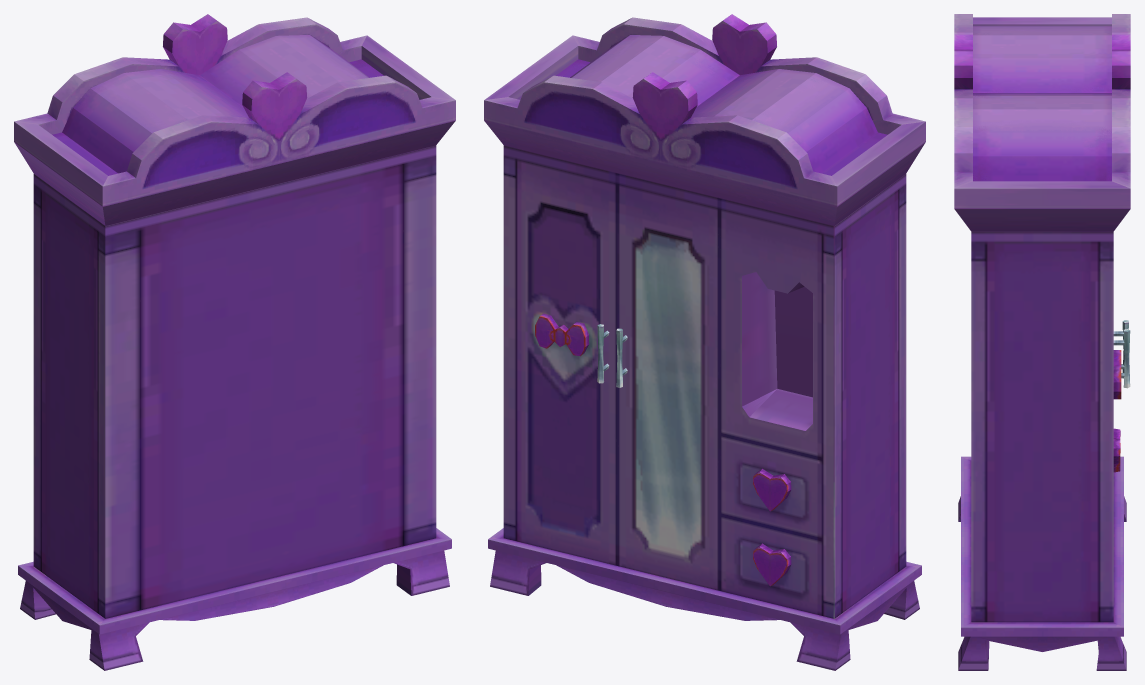
File: furni_0200023_01.FBX
3 renders of one model, left to right at view 1: azimuth 30°, elevation 25°; view 2: azimuth 150°, elevation 25°; view 3: azimuth 270°, elevation 25°, orthographic.
Visible parts, largest first — view 1: furni_0200023_01; view 2: furni_0200023_01; view 3: furni_0200023_01.
Part boxes in pixels (box(x1,y1,x2,y2)): furni_0200023_01: box(14, 14, 455, 670); furni_0200023_01: box(484, 14, 925, 670); furni_0200023_01: box(954, 14, 1130, 670).
Bounding box in the file's own units: 171 × 253 × 74.27.
